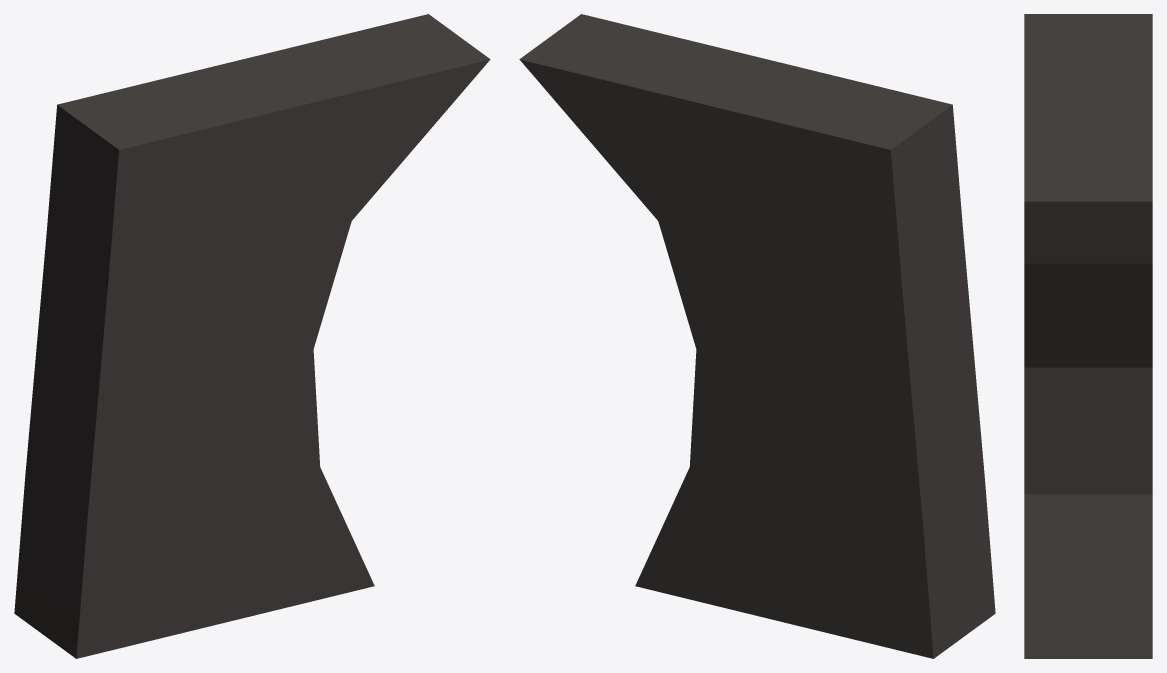
The model's file is Pistol2_02_3.fbx.
3 views of the same model, side by side, from view 1: azimuth 30°, elevation 25°; view 2: azimuth 150°, elevation 25°; view 3: azimuth 270°, elevation 25° (orthographic). The views are drawn at different scales.
Visible parts, largest first — view 1: Pistol2_02_3; view 2: Pistol2_02_3; view 3: Pistol2_02_3.
Part boxes in pixels (x1,y1,x2,y2): Pistol2_02_3: (14,14,490,658); Pistol2_02_3: (519,14,995,658); Pistol2_02_3: (1024,14,1152,658).
Size of the model in its own units: 0.0274 by 0.0315 by 0.0071.
